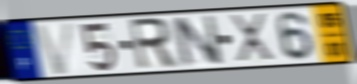5: (79, 20, 119, 73)
6: (275, 9, 316, 63)
N: (170, 13, 226, 70)
R: (126, 15, 179, 72)
V: (31, 20, 77, 77)
X: (228, 11, 277, 64)
